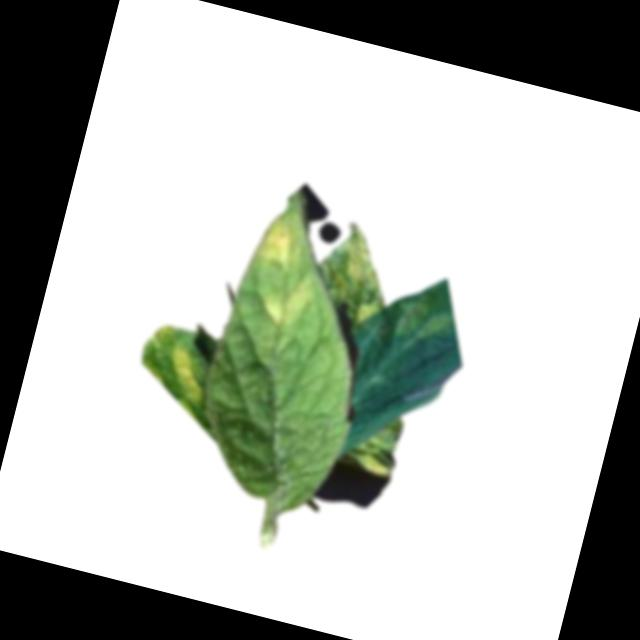Leaf_Mold: (321, 223, 401, 332), (134, 321, 218, 414), (386, 287, 456, 350), (246, 206, 307, 277), (254, 269, 312, 329), (357, 441, 398, 478)
